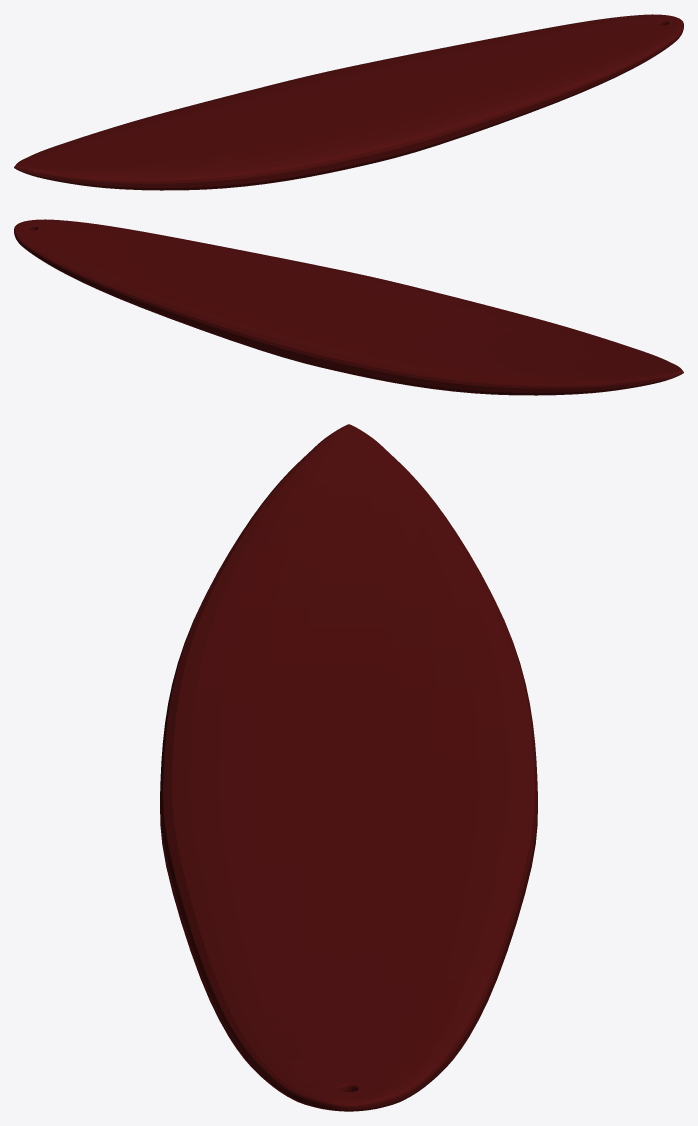
The model's file is Player.fbx.
3 views of the same model, one above another, from view 1: azimuth 30°, elevation 25°; view 2: azimuth 150°, elevation 25°; view 3: azimuth 270°, elevation 25° (orthographic). The views are drawn at different scales.
Parts seen in each view (by area): view 1: Box002; view 2: Box002; view 3: Box002.
Boxes of the visible parts, x1=… form: Box002: x1=14, y1=14, x2=683, y2=190; Box002: x1=14, y1=219, x2=683, y2=395; Box002: x1=160, y1=424, x2=537, y2=1111.
Size of the model in its own units: 241 by 15.73 by 59.23.
